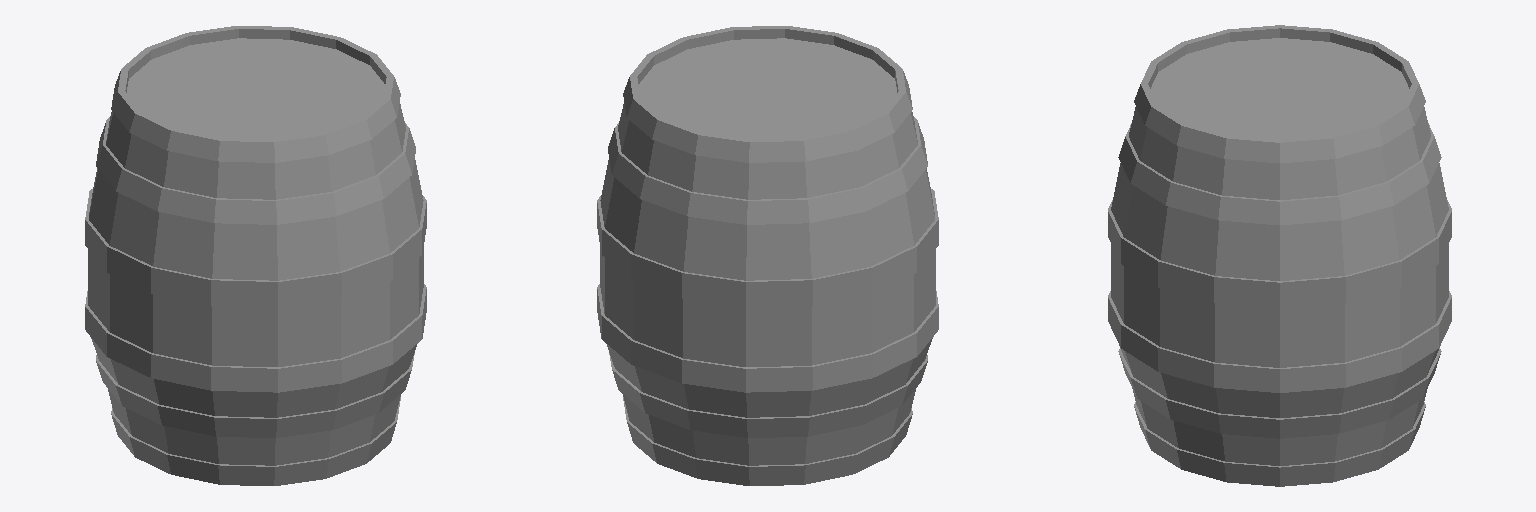
Rendered from Barrel.obj.
3 renders of one model, left to right at view 1: azimuth 30°, elevation 25°; view 2: azimuth 150°, elevation 25°; view 3: azimuth 270°, elevation 25°, orthographic.
Visible parts, largest first — view 1: Barrel; view 2: Barrel; view 3: Barrel.
Boxes of the visible parts, x1=… form: Barrel: x1=85, y1=26, x2=426, y2=485; Barrel: x1=597, y1=26, x2=938, y2=485; Barrel: x1=1108, y1=25, x2=1451, y2=486.
Size of the model in its own units: 0.8346 by 0.9192 by 0.8346.